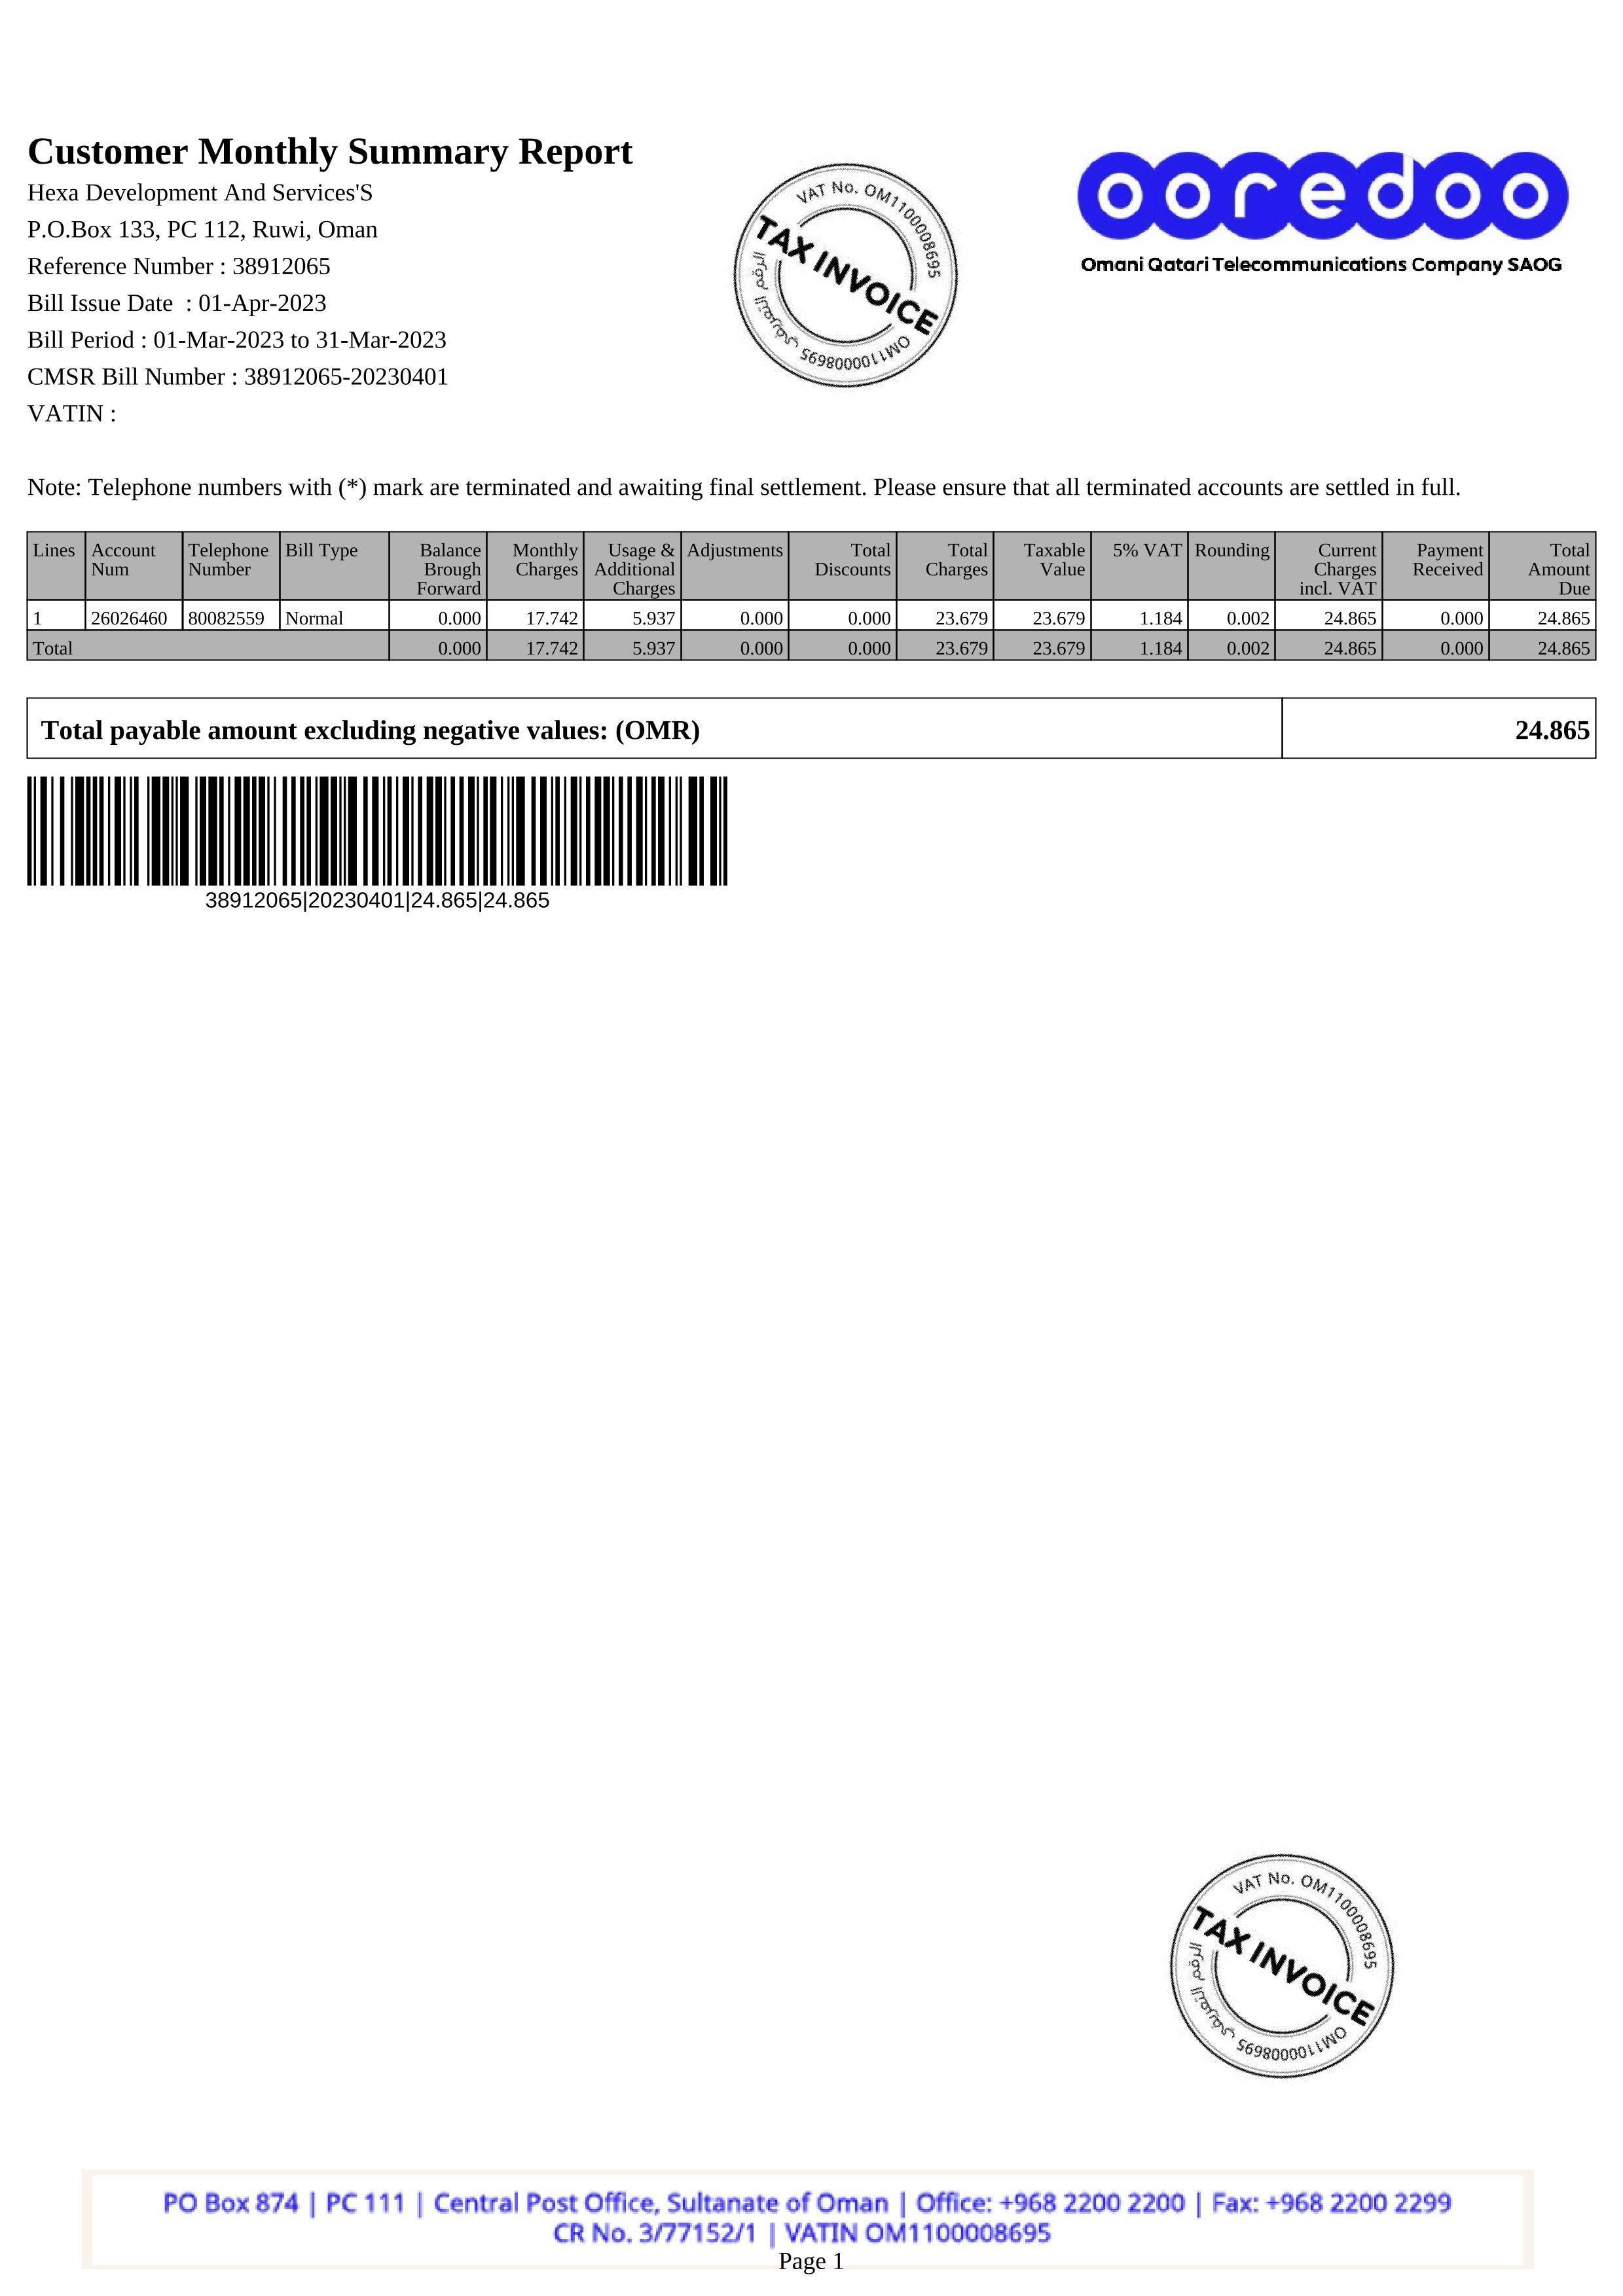InvoiceDate: (193, 290, 330, 314)
InvoiceNumber: (228, 253, 332, 279)
TotalAmount: (1509, 713, 1593, 748)
